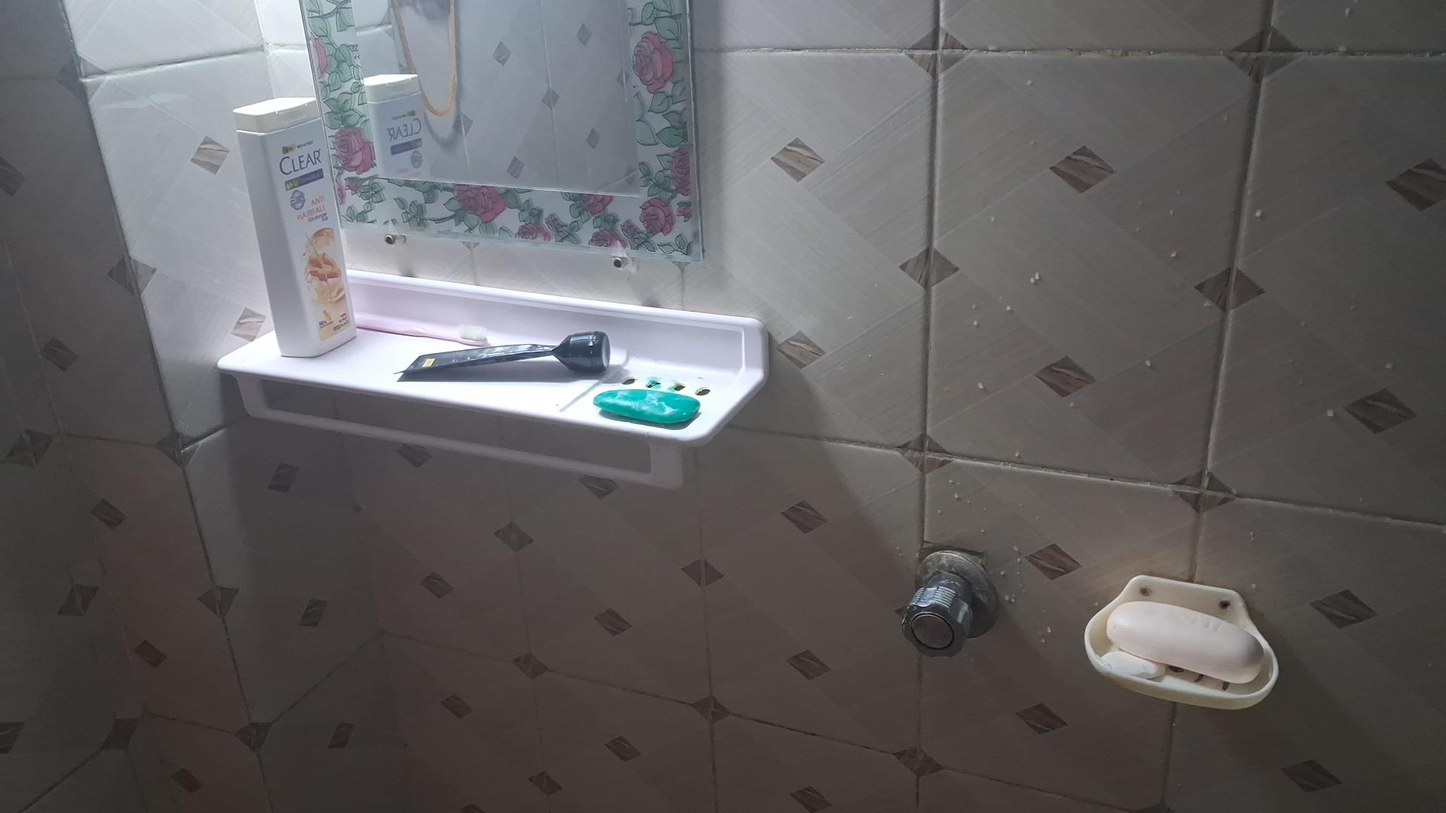Bottle: (229, 101, 361, 362)
Soap: (1104, 598, 1267, 702), (588, 381, 696, 436)
